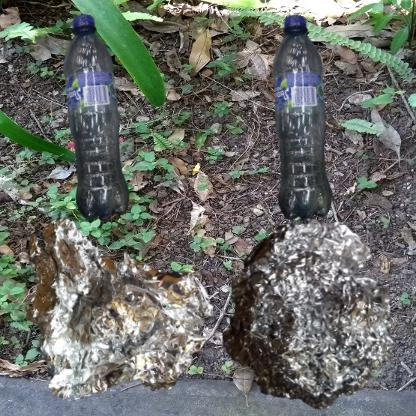aluminio: (10, 213, 223, 416), (213, 213, 400, 416)
botella: (213, 10, 416, 278), (10, 10, 213, 269)
